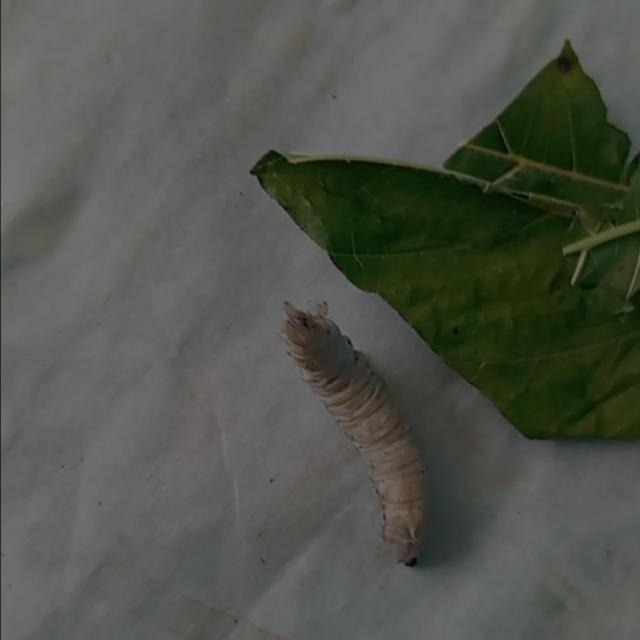Grasserie: (261, 283, 459, 597)
